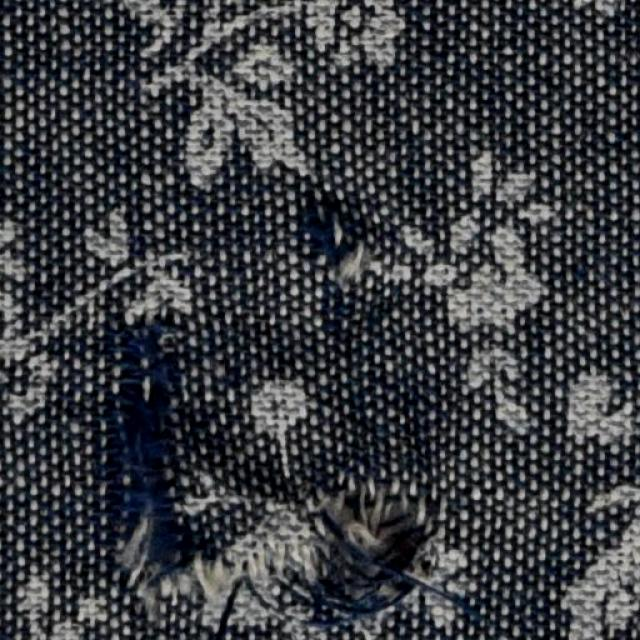Snag: (87, 310, 214, 618), (291, 472, 460, 636), (301, 208, 374, 302)
